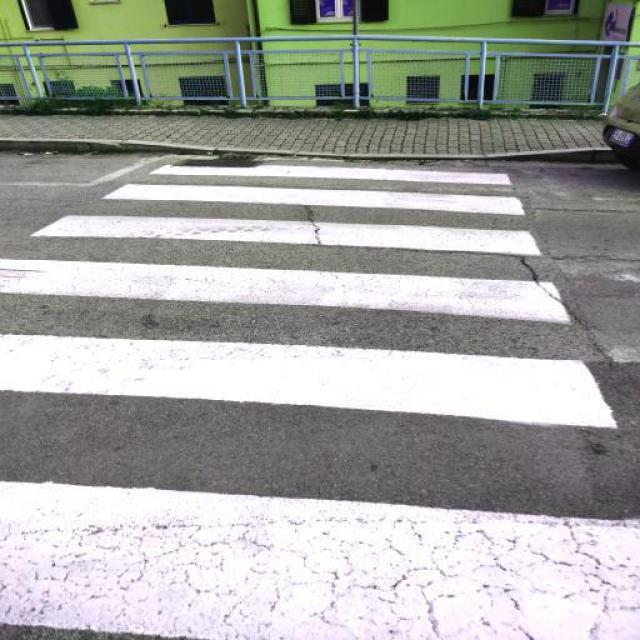intact_crosswalk: (0, 155, 640, 640)
